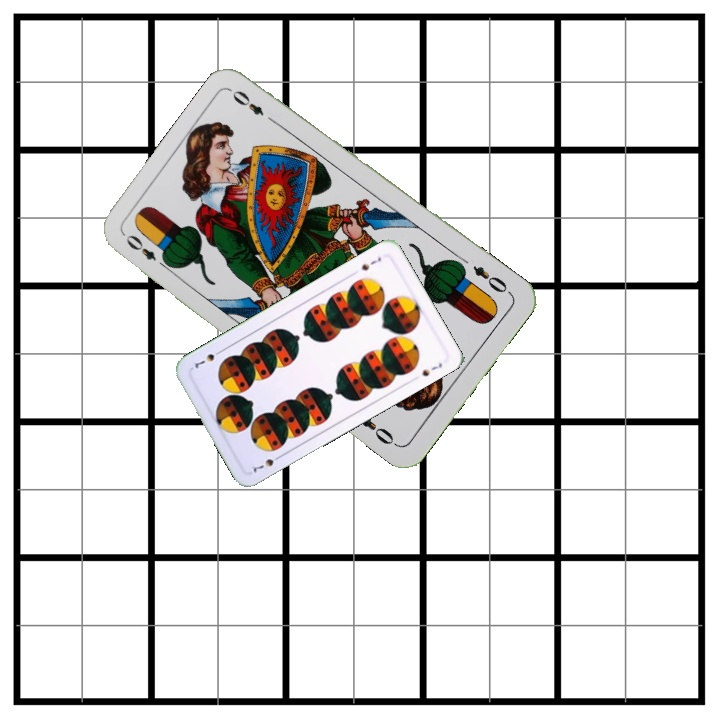EO: (121, 230, 172, 272), (468, 261, 514, 297)
S7: (247, 451, 285, 475), (357, 253, 384, 273)
